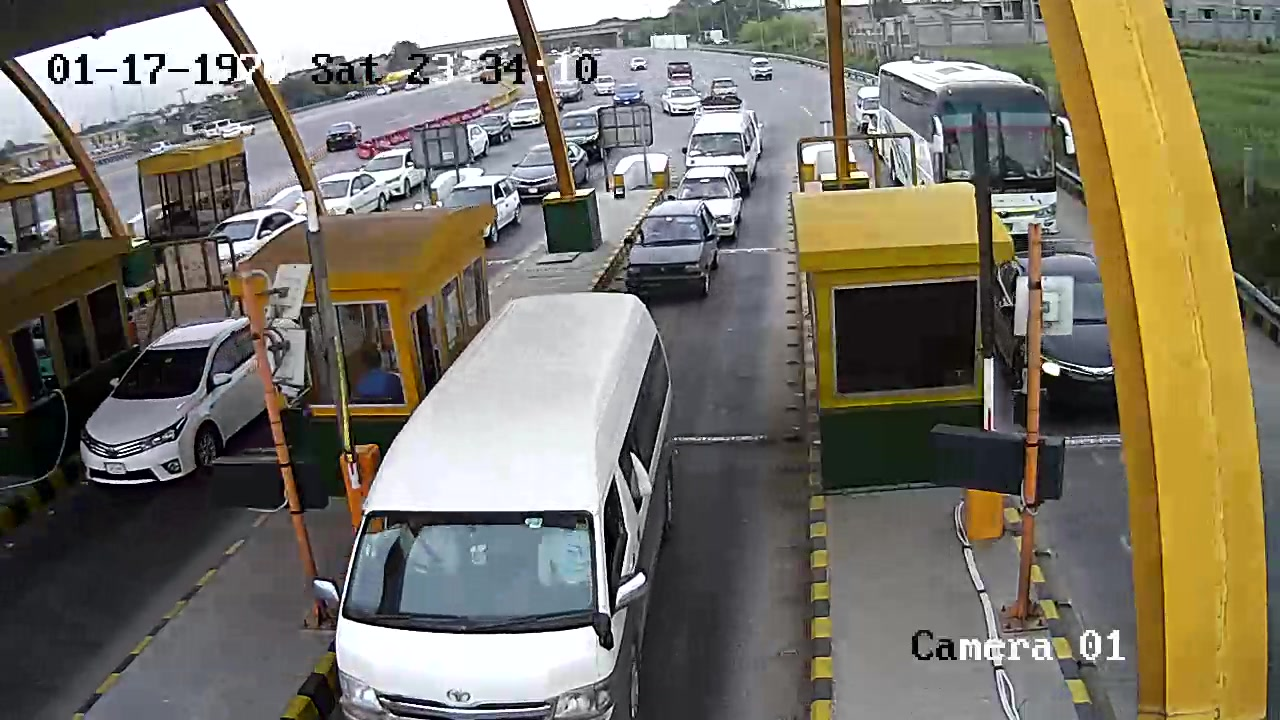F2: (319, 289, 680, 720)
